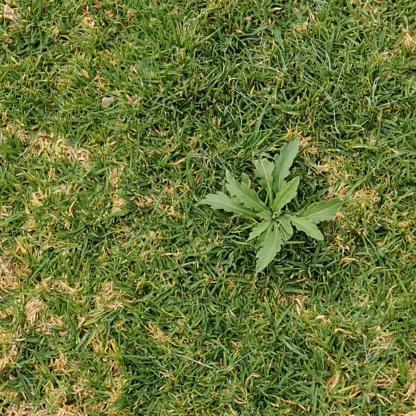Weeds: (201, 138, 344, 273)
